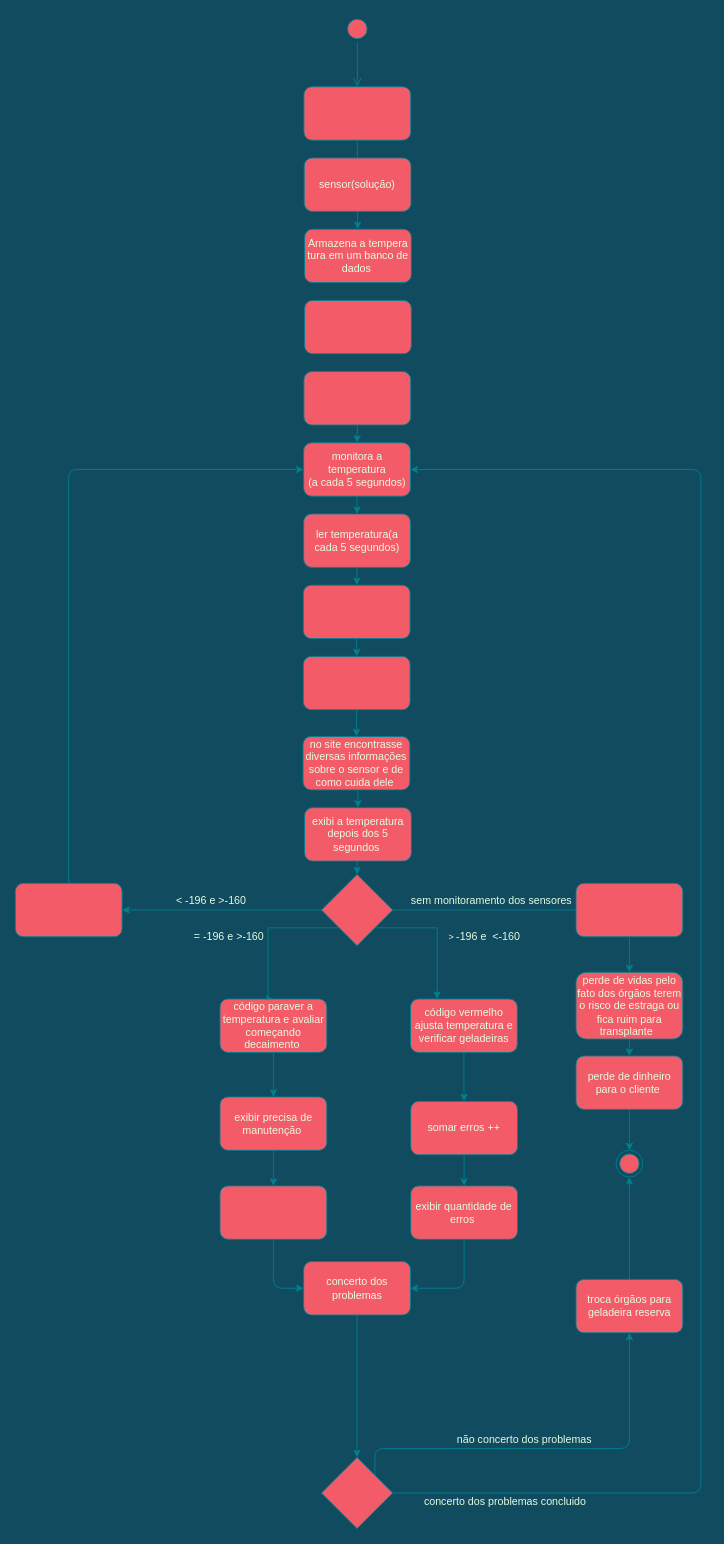
Image size: 724x1544. Some labels were removed from this diagram. Here are the shapes that lost their labels. From the top down, the centre of each, then its label:
point 357,113: controle de temperatura mal cuidado
point 357,326: sensor para monitoramento da temperatura
point 357,398: no Arduíno
point 356,611: mostra a temperatura em tempo real em forma de grafico
point 356,682: mostra o gráfico ni um site institucional através do seu cadastro
point 68,909: temperatura correta
point 629,909: Perda de órgãos por falta de monitoramento de temperatura
point 273,1212: mostrar possíveis erros
